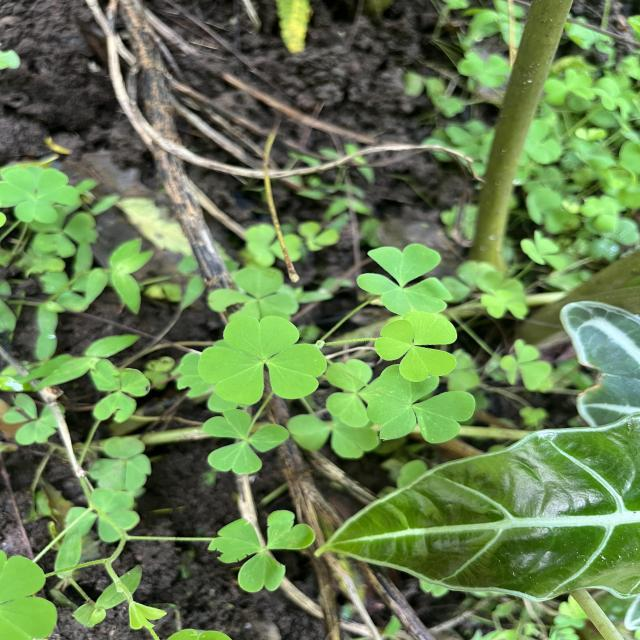Oxalis corniculata: (196, 314, 328, 406), (206, 508, 317, 594), (366, 364, 476, 444), (356, 242, 454, 316), (374, 310, 458, 383), (202, 408, 291, 475)
